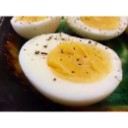begg: (19, 33, 122, 97)
